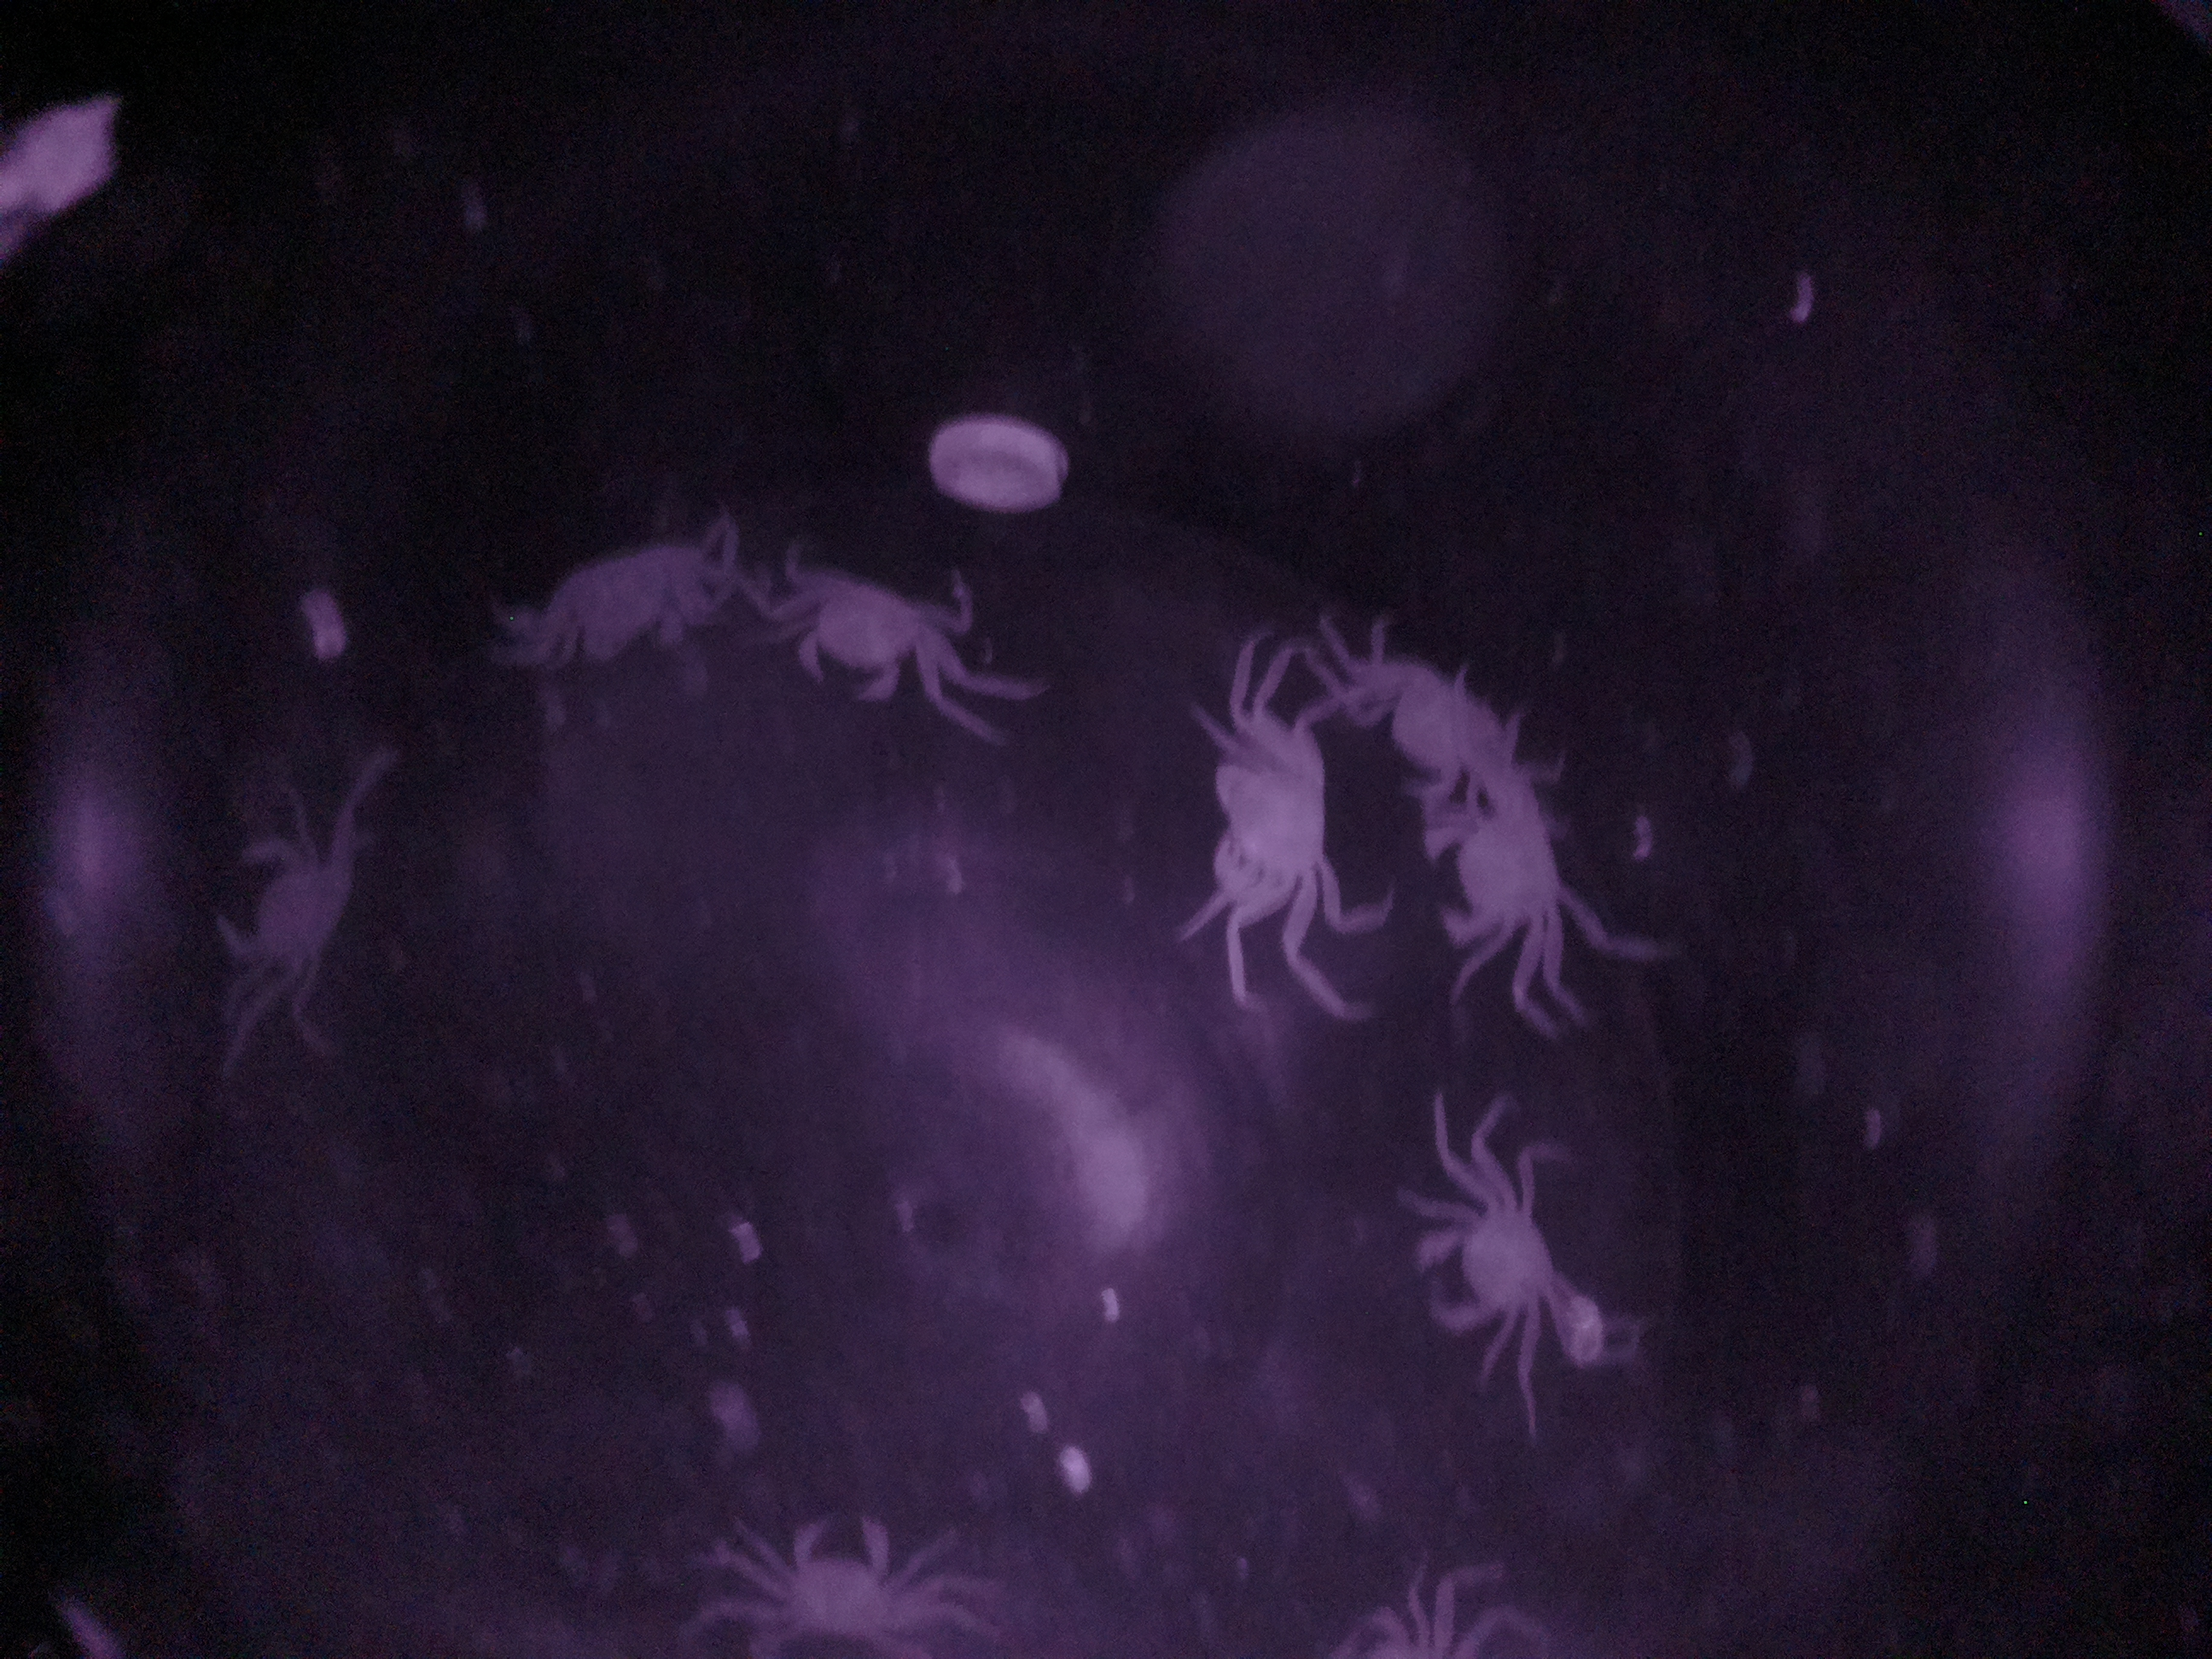Crab: (1186, 666, 1355, 955), (766, 538, 996, 739), (1371, 1168, 1592, 1368)
